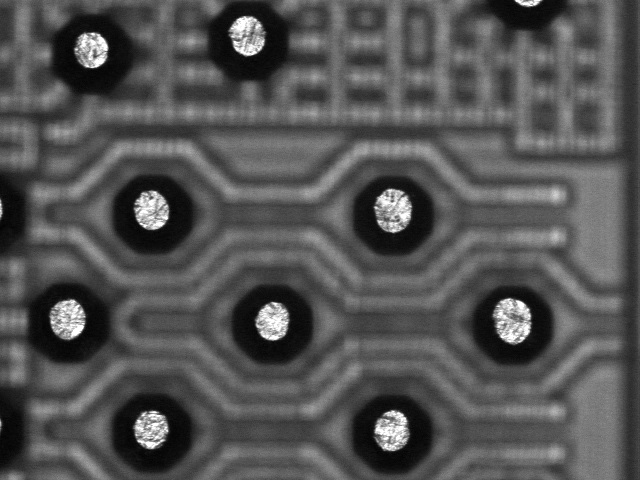over: (344, 166, 443, 262), (102, 166, 201, 262), (41, 6, 140, 102), (20, 276, 119, 371), (105, 385, 204, 480), (343, 384, 442, 479), (464, 277, 563, 372), (222, 277, 321, 372), (198, 1, 296, 88)
